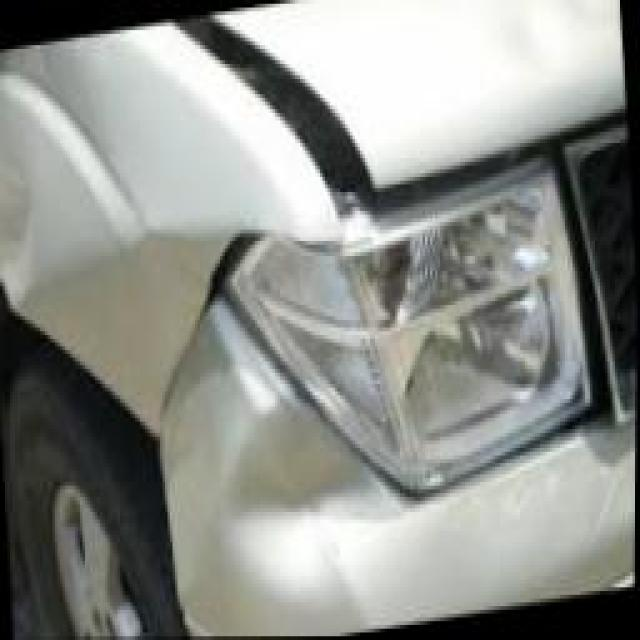Bonnet: (161, 0, 627, 236)
Bumper: (161, 294, 486, 638)
Fender: (0, 144, 294, 434)
